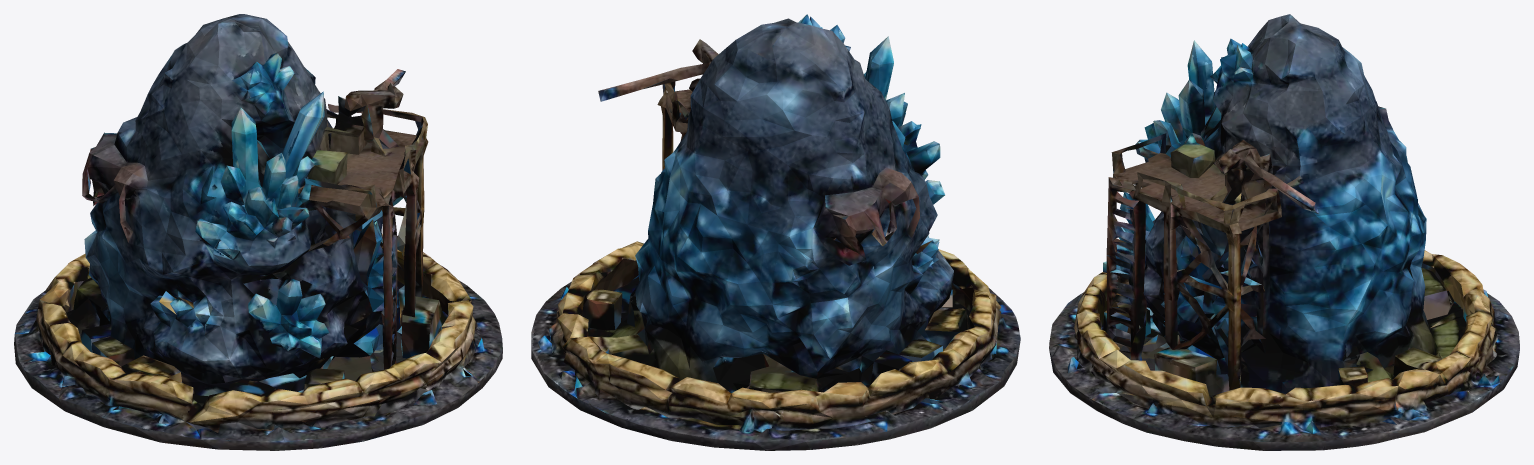
File: crystal-rock-outcrop.glb
3 renders of one model, left to right at view 1: azimuth 30°, elevation 25°; view 2: azimuth 150°, elevation 25°; view 3: azimuth 270°, elevation 25°, orthographic. The views are drawn at different scales.
Parts seen in each view (by area): view 1: tmp9v6qfa_a.ply; view 2: tmp9v6qfa_a.ply; view 3: tmp9v6qfa_a.ply.
Boxes of the visible parts, <box> form: tmp9v6qfa_a.ply: <box>14,14,502,450</box>; tmp9v6qfa_a.ply: <box>531,14,1020,450</box>; tmp9v6qfa_a.ply: <box>1049,14,1519,450</box>.
Size of the model in its own units: 4 by 3 by 4.
Materials: 1 (1 with a texture image).
